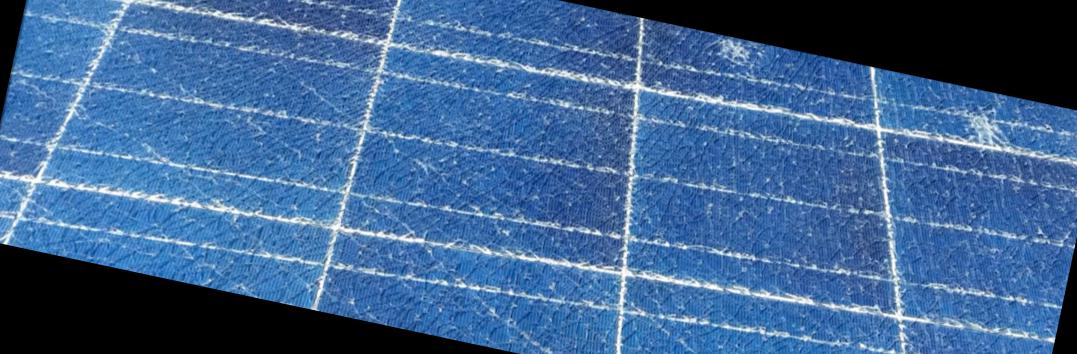Crack: (938, 90, 1035, 170), (699, 32, 772, 82)
